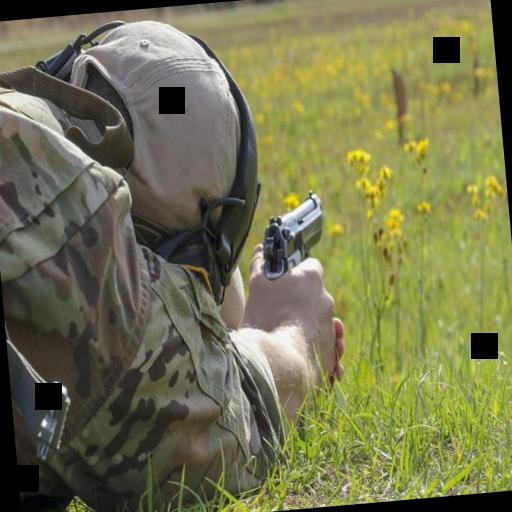Handgun: (252, 181, 332, 283)
